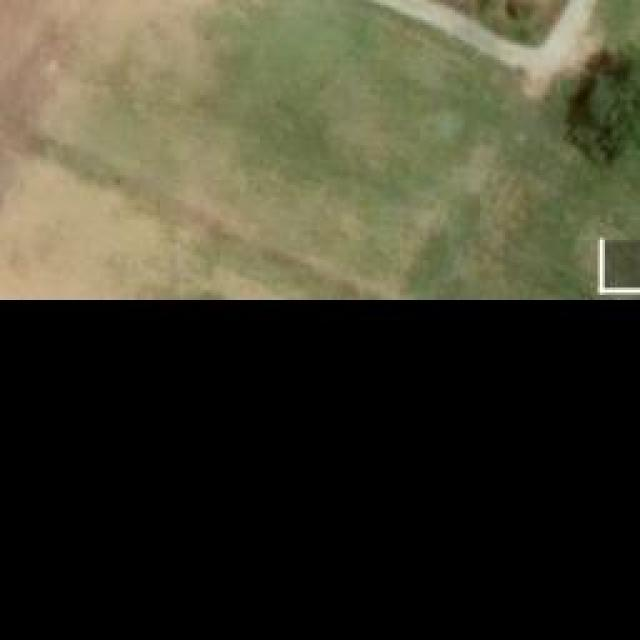Tree: (570, 40, 640, 165), (502, 0, 539, 22)
